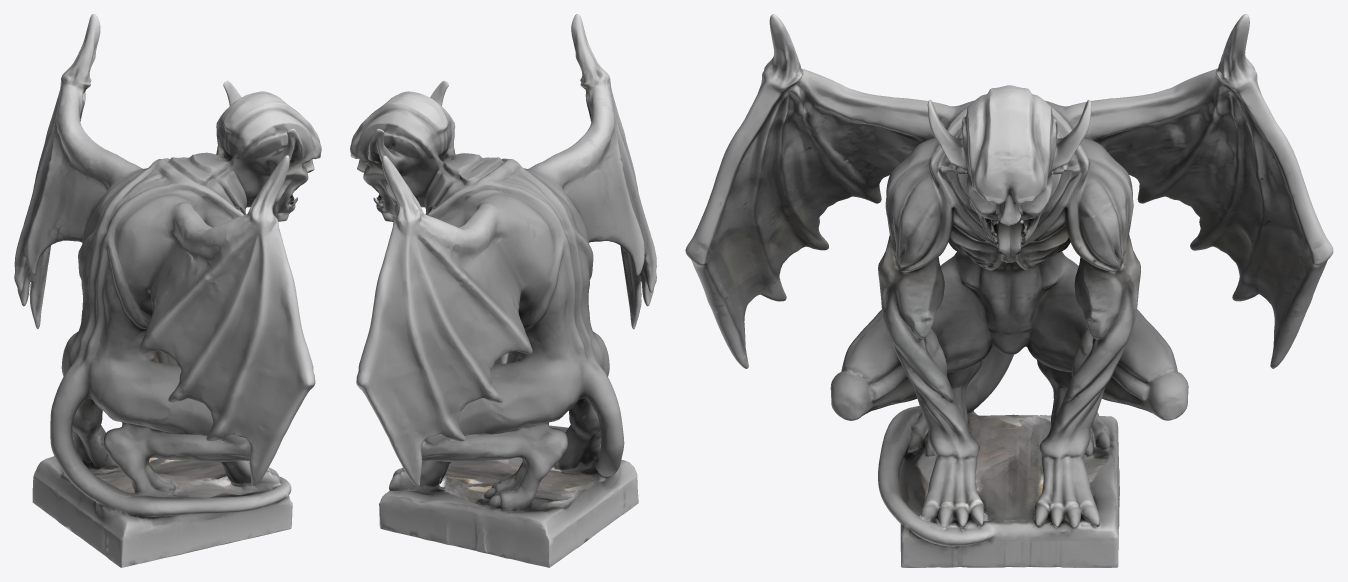
File: gargola.fbx
3 renders of one model, left to right at view 1: azimuth 30°, elevation 25°; view 2: azimuth 150°, elevation 25°; view 3: azimuth 270°, elevation 25°, orthographic. The views are drawn at different scales.
Visible parts, largest first — view 1: tripo_node_754d64ef; view 2: tripo_node_754d64ef; view 3: tripo_node_754d64ef.
Boxes of the visible parts, <box> form: tripo_node_754d64ef: <box>14,14,321,567</box>; tripo_node_754d64ef: <box>350,14,656,567</box>; tripo_node_754d64ef: <box>685,14,1333,567</box>.
Size of the model in its own units: 0.5693 by 0.8867 by 0.9999.
1 material, 1 textured.
